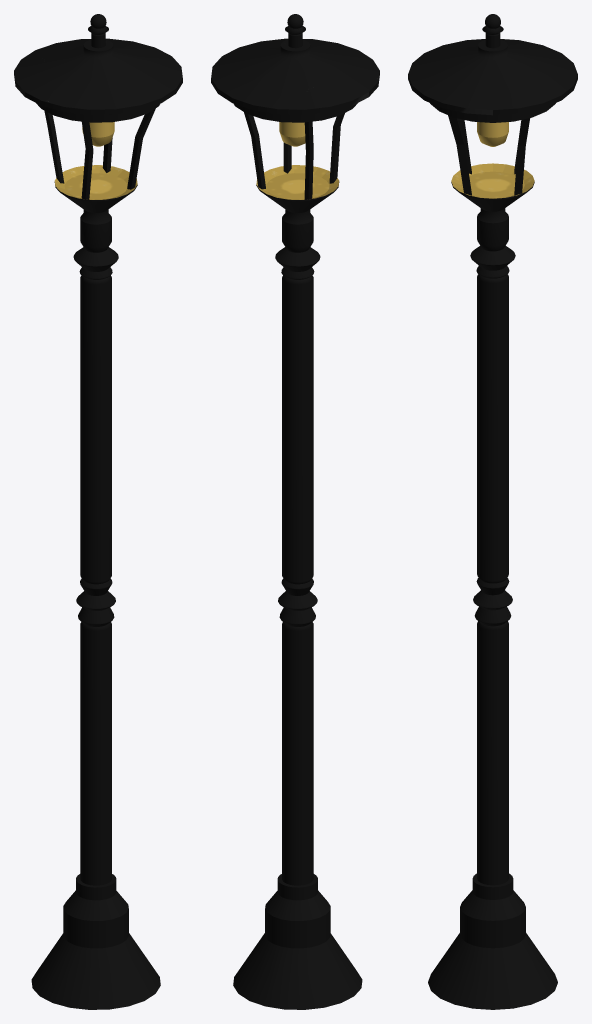
The model's file is Geo_StreetLampTextured.fbx.
The picture shows the model from 3 angles, left to right: view 1: azimuth 30°, elevation 25°; view 2: azimuth 150°, elevation 25°; view 3: azimuth 270°, elevation 25°; orthographic projection.
Parts seen in each view (by area): view 1: Geo_StreetLamp; view 2: Geo_StreetLamp; view 3: Geo_StreetLamp.
Part boxes in pixels (box(x1,y1,x2,y2)): Geo_StreetLamp: box(14, 14, 182, 1009); Geo_StreetLamp: box(211, 14, 379, 1009); Geo_StreetLamp: box(408, 14, 577, 1009).
Size of the model in its own units: 1.47 by 9.22 by 1.47.
1 material, 1 textured.
